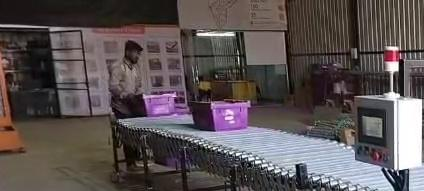box: (190, 101, 249, 131), (142, 93, 175, 116)
